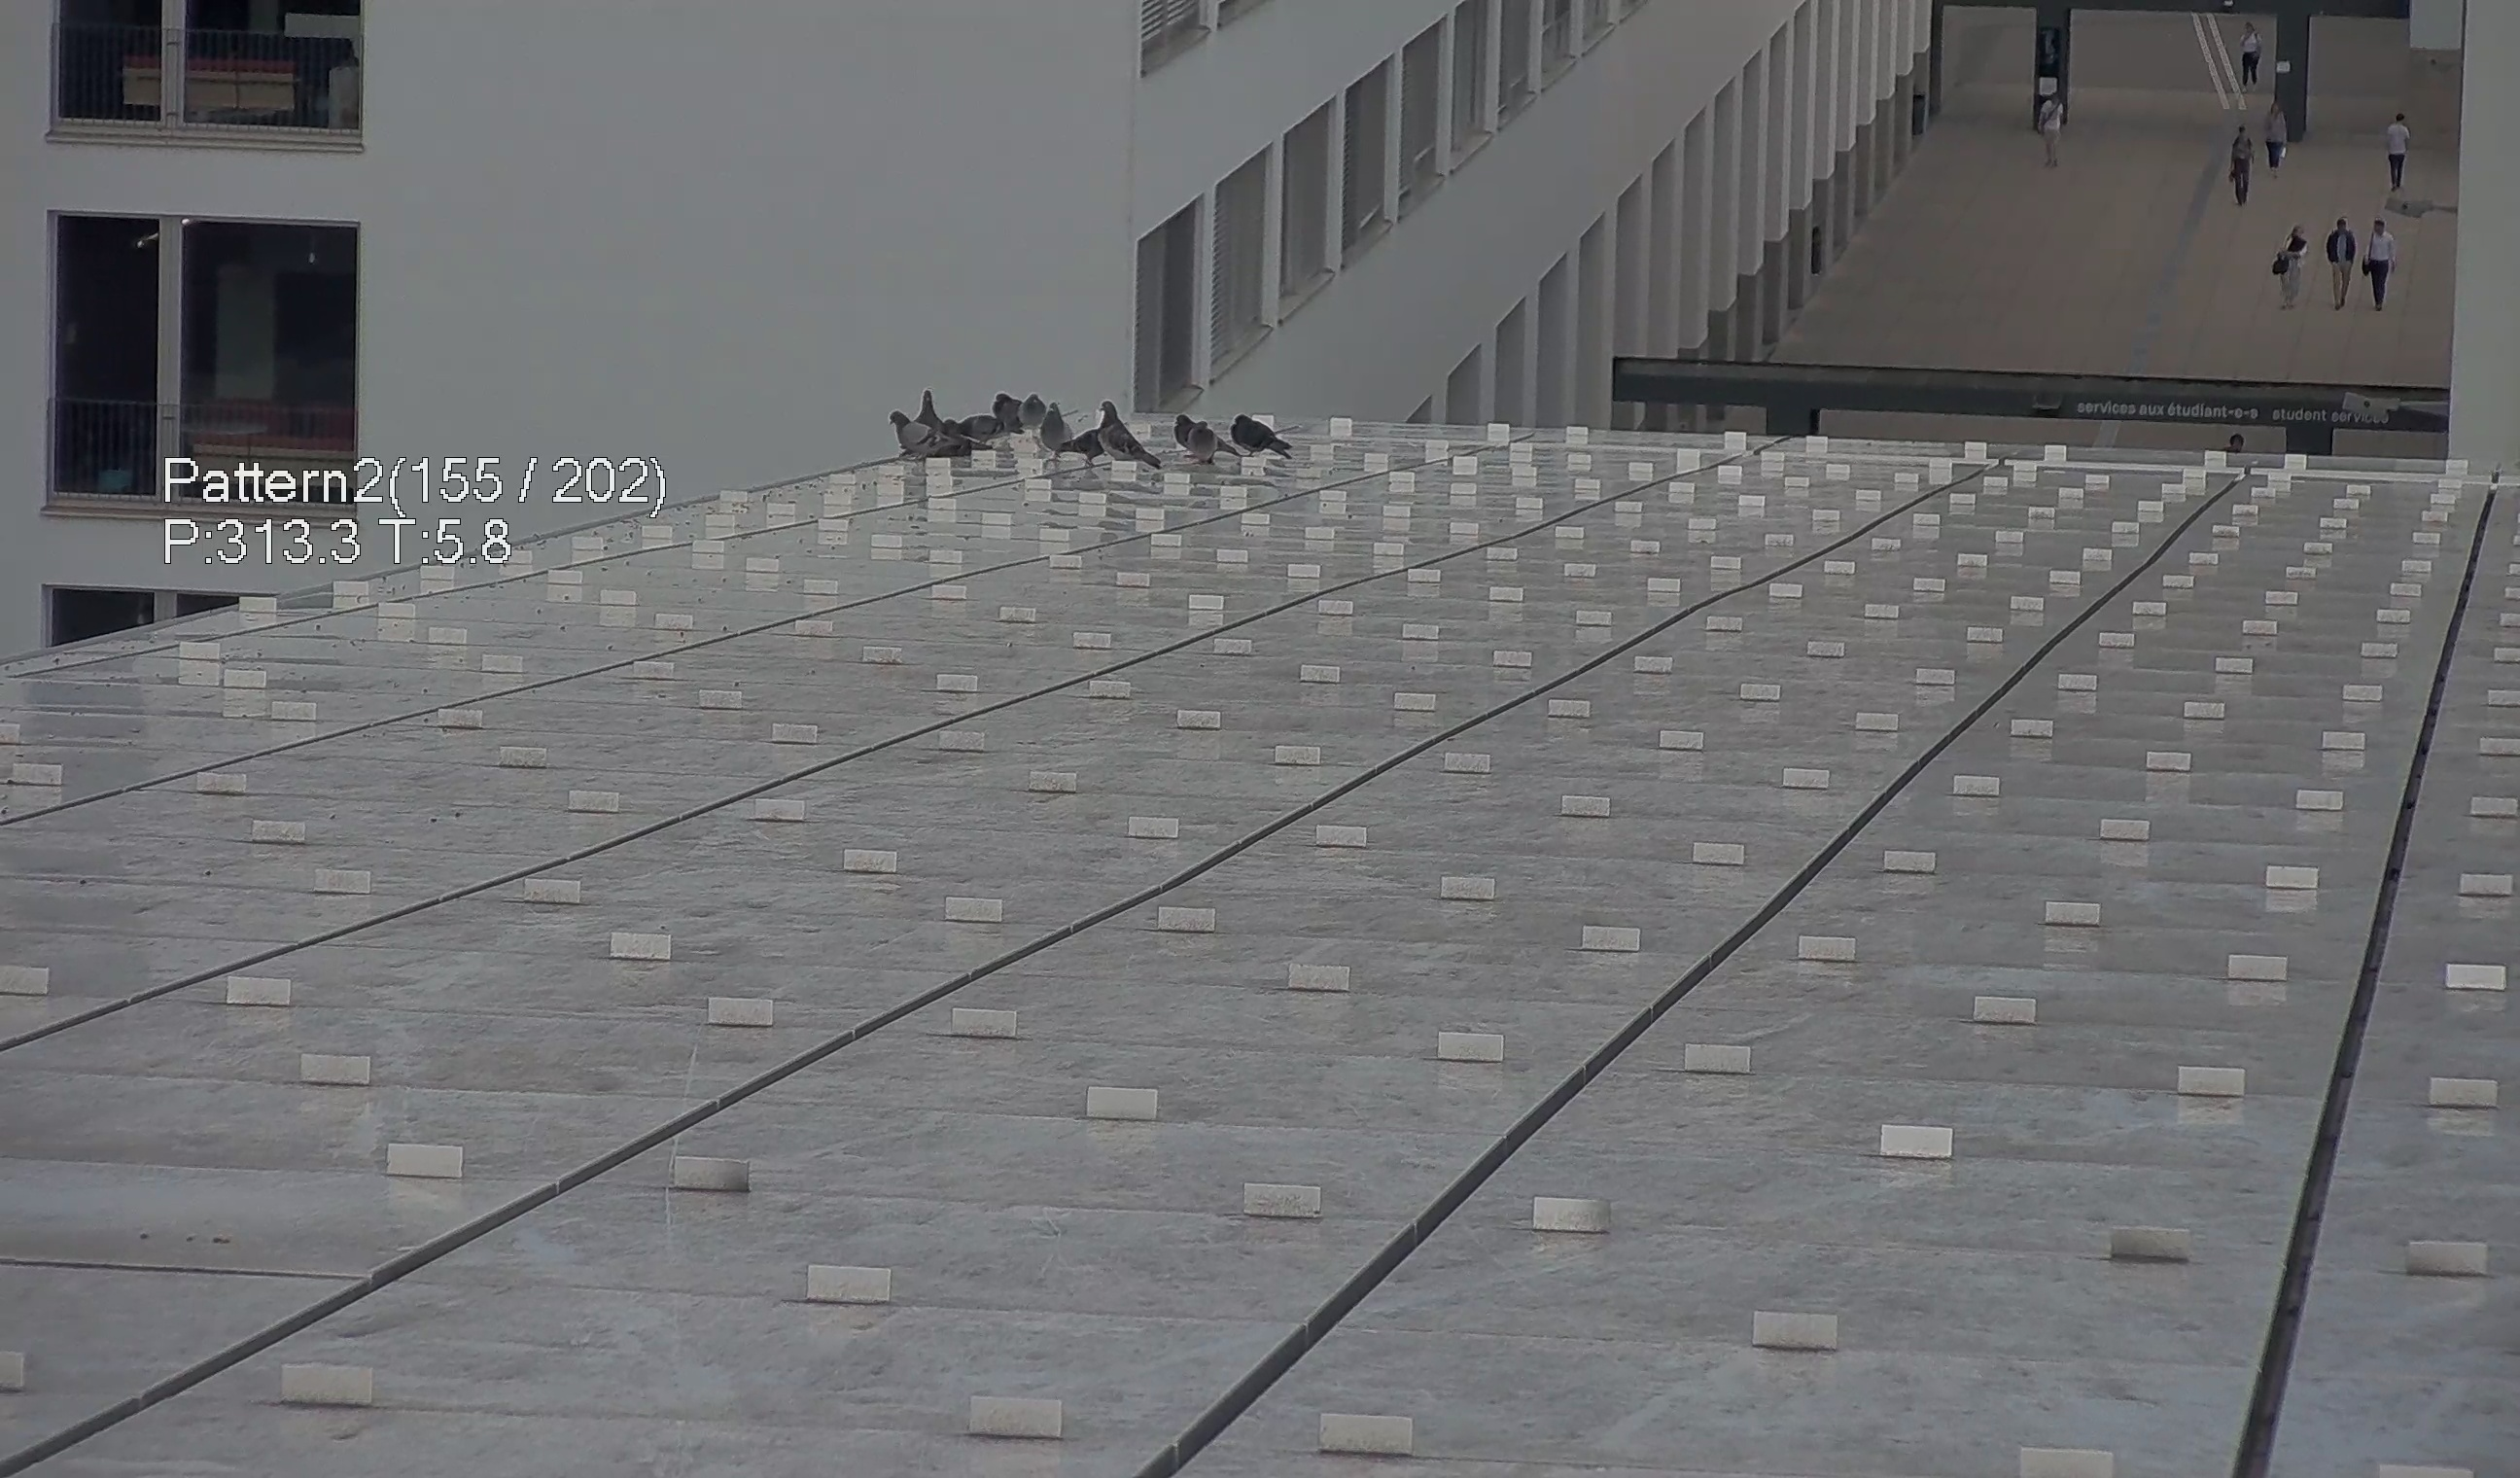Pigeon: (1090, 396, 1157, 468), (886, 412, 980, 461), (1229, 412, 1293, 456), (1059, 419, 1106, 466), (1184, 424, 1227, 470), (1041, 405, 1074, 456), (990, 385, 1023, 436), (948, 412, 1008, 440), (907, 385, 950, 422), (1016, 391, 1046, 431), (1175, 412, 1198, 450)
